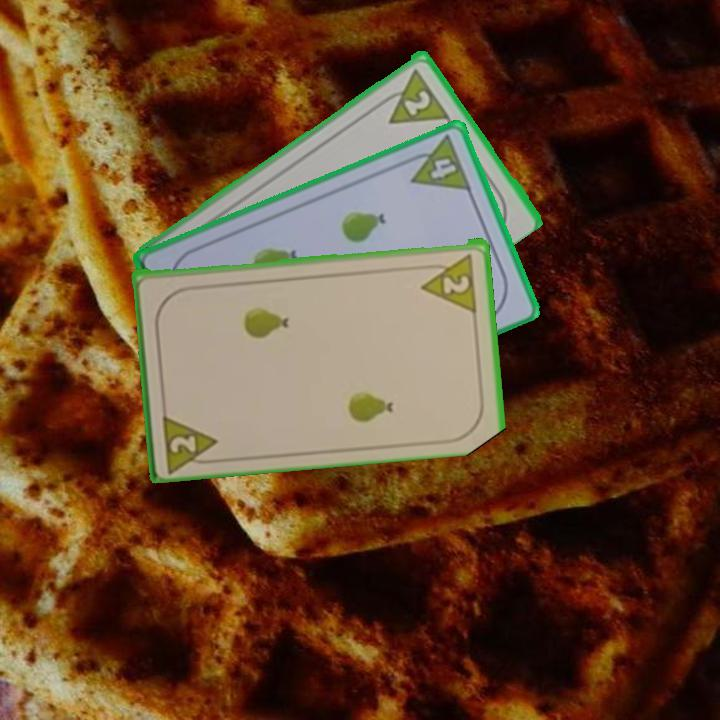2p: (417, 249, 480, 313), (400, 86, 434, 118), (166, 431, 199, 456)
4p: (400, 131, 474, 194)
